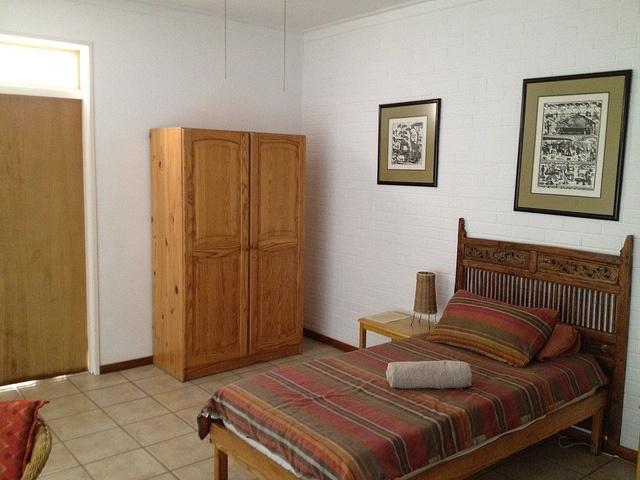Lemari: (148, 125, 306, 383)
